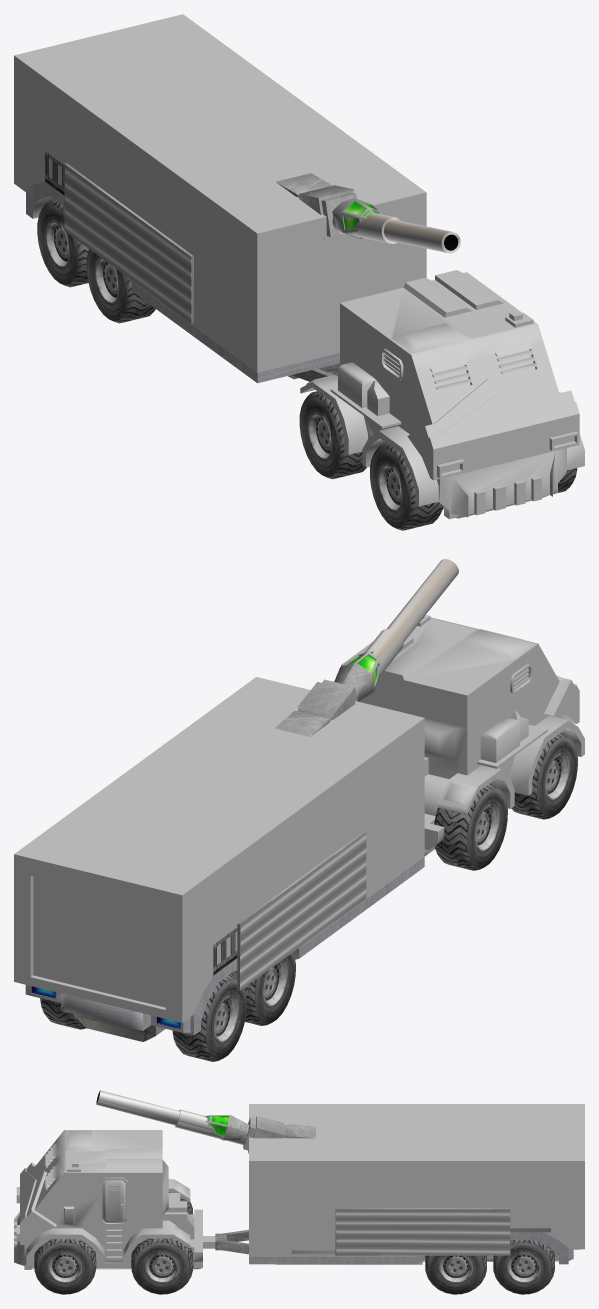
File: AALSP_AST.fbx
The picture shows the model from 3 angles, top to bottom: view 1: azimuth 30°, elevation 25°; view 2: azimuth 150°, elevation 25°; view 3: azimuth 270°, elevation 25°; orthographic projection. The views are drawn at different scales.
Visible parts, largest first — view 1: Haul_Cargo, AST_Head, AST_LauncherBase, AST_Tail, wheel_FR, wheel_RR, ArtilleryPlasmaCannon, wheel_RL4, wheel_RL3, ArtilleryCannon; view 2: Haul_Cargo, AST_Head, AST_LauncherBase, AST_Tail, wheel_RR, ArtilleryPlasmaCannon, wheel_RL4, wheel_FR, ArtilleryCannon, wheel_RL3, wheel_RL2; view 3: Haul_Cargo, AST_Head, AST_LauncherBase, AST_Tail, wheel_RL, wheel_FL, wheel_RL2, wheel_RL1, ArtilleryCannon, ArtilleryPlasmaCannon.
Part boxes in pixels (x1=…): Haul_Cargo: x1=14, y1=14, x2=426, y2=372; AST_Head: x1=300, y1=270, x2=584, y2=519; AST_LauncherBase: x1=64, y1=163, x2=193, y2=323; AST_Tail: x1=26, y1=181, x2=339, y2=383; wheel_FR: x1=370, y1=443, x2=443, y2=530; wheel_RR: x1=299, y1=391, x2=366, y2=479; ArtilleryPlasmaCannon: x1=276, y1=173, x2=380, y2=239; wheel_RL4: x1=37, y1=199, x2=88, y2=287; wheel_RL3: x1=86, y1=249, x2=155, y2=323; ArtilleryCannon: x1=332, y1=213, x2=460, y2=253; Haul_Cargo: x1=14, y1=677, x2=424, y2=1022; AST_Head: x1=341, y1=615, x2=584, y2=856; AST_LauncherBase: x1=237, y1=831, x2=366, y2=990; AST_Tail: x1=25, y1=857, x2=424, y2=1041; wheel_RR: x1=434, y1=783, x2=507, y2=870; ArtilleryPlasmaCannon: x1=274, y1=650, x2=379, y2=736; wheel_RL4: x1=172, y1=974, x2=246, y2=1061; wheel_FR: x1=511, y1=732, x2=577, y2=819; ArtilleryCannon: x1=359, y1=559, x2=458, y2=701; wheel_RL3: x1=231, y1=952, x2=295, y2=1025; wheel_RL2: x1=40, y1=998, x2=86, y2=1029; Haul_Cargo: x1=249, y1=1104, x2=584, y2=1256; AST_Head: x1=14, y1=1130, x2=215, y2=1269; AST_LauncherBase: x1=291, y1=1208, x2=550, y2=1255; AST_Tail: x1=215, y1=1229, x2=579, y2=1264; wheel_RL: x1=131, y1=1238, x2=193, y2=1294; wheel_FL: x1=34, y1=1239, x2=96, y2=1294; wheel_RL2: x1=493, y1=1240, x2=554, y2=1294; wheel_RL1: x1=425, y1=1255, x2=486, y2=1294; ArtilleryCannon: x1=96, y1=1090, x2=246, y2=1144; ArtilleryPlasmaCannon: x1=204, y1=1114, x2=315, y2=1153.
Size of the model in its own units: 1.64 by 2.27 by 6.61.
